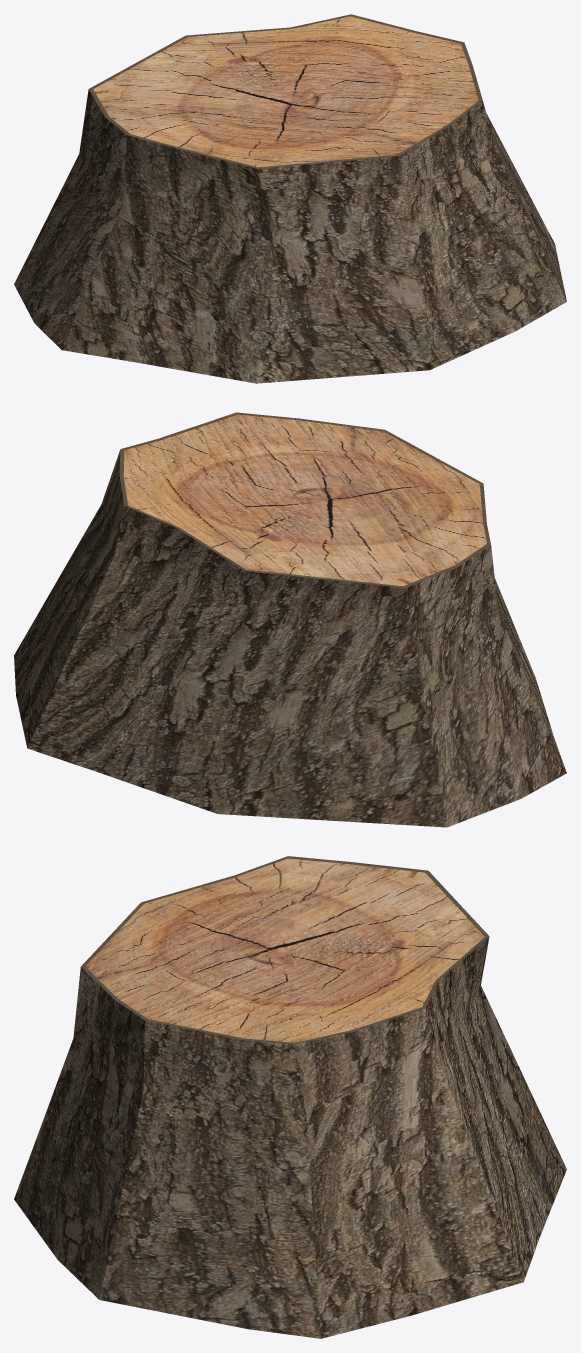
The model's file is stump.fbx.
The picture shows the model from 3 angles, top to bottom: view 1: azimuth 30°, elevation 25°; view 2: azimuth 150°, elevation 25°; view 3: azimuth 270°, elevation 25°; orthographic projection. The views are drawn at different scales.
Parts seen in each view (by area): view 1: polySurface1; view 2: polySurface1; view 3: polySurface1.
Boxes of the visible parts, box(x1,y1,x2,y2) form: polySurface1: box(14, 14, 566, 383); polySurface1: box(14, 412, 566, 827); polySurface1: box(14, 856, 566, 1338).
Bounding box in the file's own units: 2.25 × 0.8946 × 1.82.
Materials: 2 (2 with a texture image).
